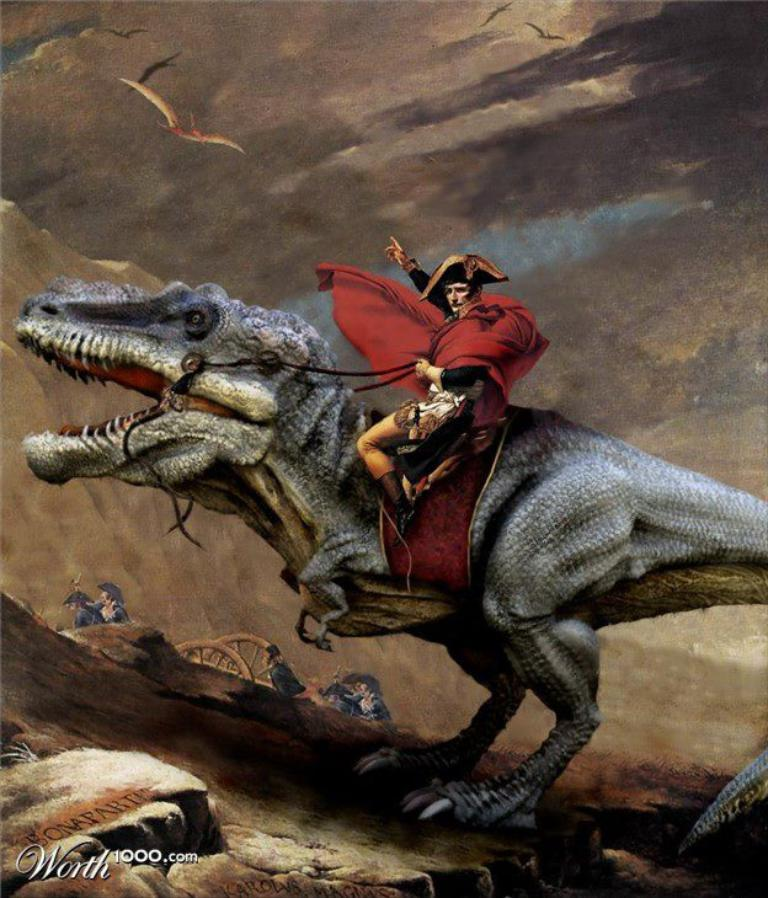Person: (314, 235, 550, 546), (262, 647, 315, 703), (335, 679, 394, 726), (72, 584, 130, 628)
